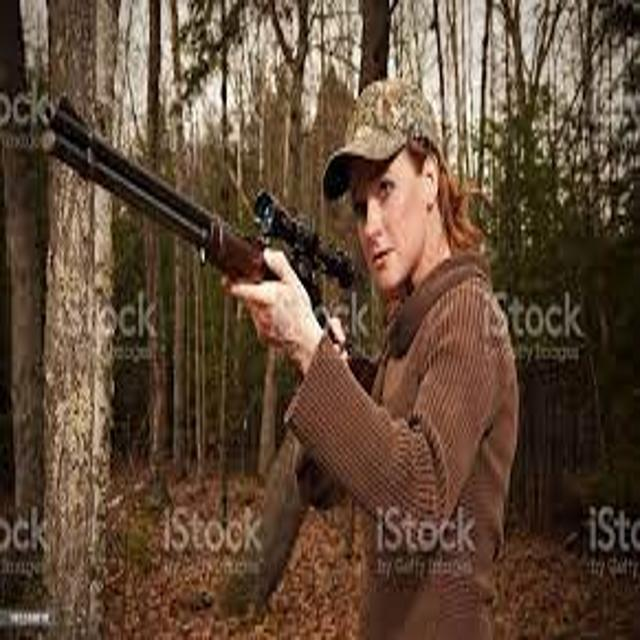gun: (22, 70, 394, 415)
poacher: (191, 57, 538, 637)
